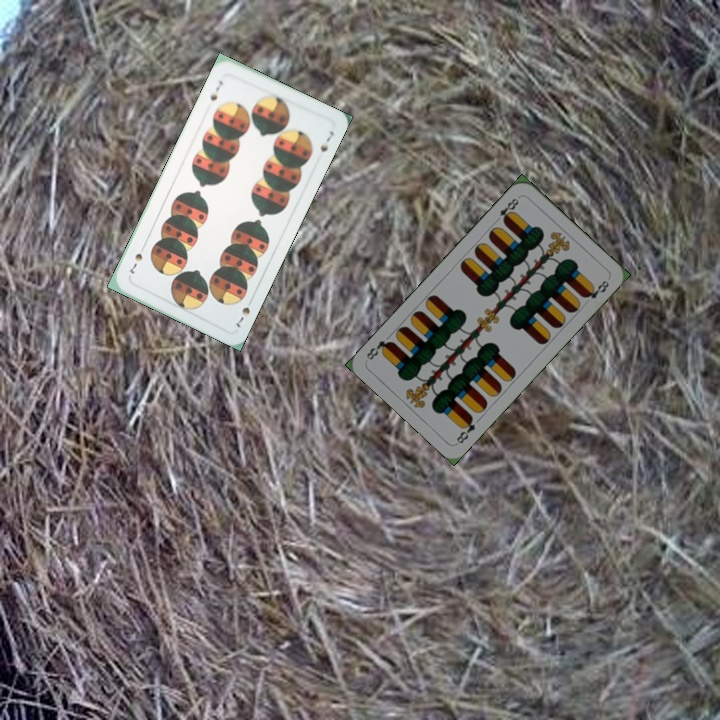E8: (491, 192, 523, 226), (452, 412, 478, 446)
S7: (232, 294, 256, 332), (206, 76, 225, 104)
